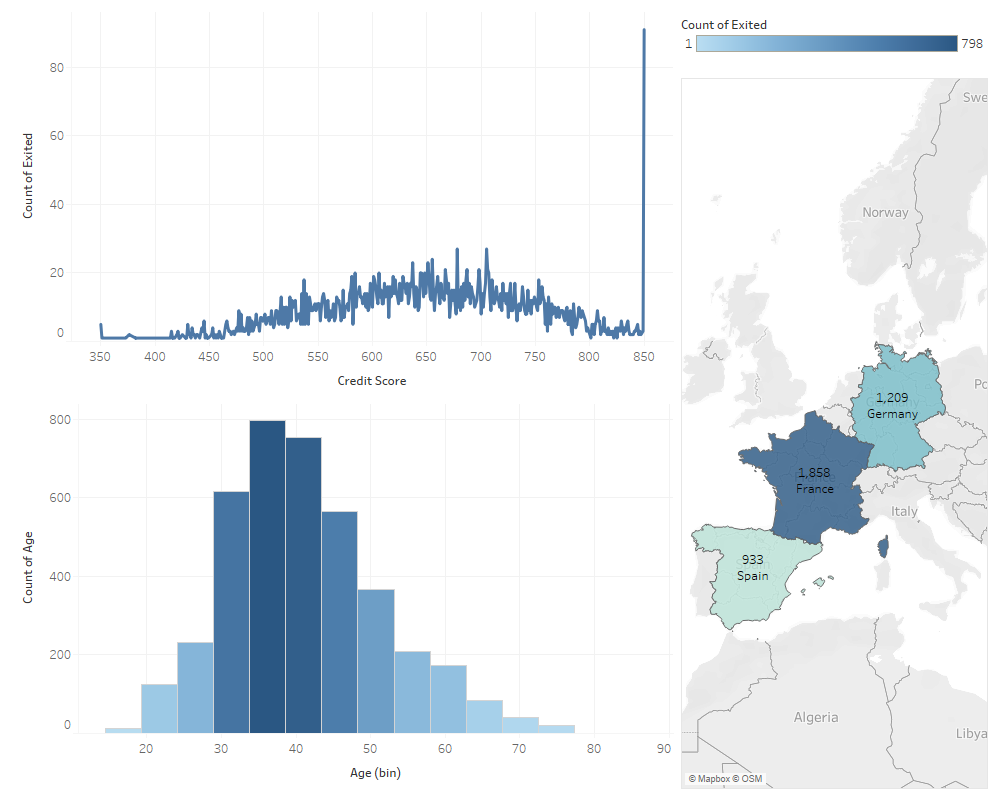

The dashboard page shown, as its layout file describes it:
{"tool":"tableau","page":{"name":"Dashboard 1","canvas":[1000,800],"ordinal":0},"visuals":[{"type":"worksheet","title":"Sheet 3","mark":"Automatic","rows":["Exited"],"cols":["CreditScore"],"box":[8,8,669,392]},{"type":"legend","title":"Sheet 2","param":"[federated.16ugxtz0ocsmtc17g0x3j0l40jgm].[cnt:Exited:qk]","box":[677,8,315,65]},{"type":"worksheet","title":"Sheet 4","mark":"Multipolygon","box":[677,73,315,719]},{"type":"worksheet","title":"Sheet 2","mark":"Automatic","rows":["Age"],"cols":["Age (bin)"],"box":[8,400,669,392]}]}

Visuals, with their boxes in screenshot pixels (x1, y1, x2, y2), scaled from the page's 1000x800 canvas onto the 1000x800 screenshot:
"Sheet 3" worksheet: 8:8:677:400
"Sheet 2" legend: 677:8:992:73
"Sheet 4" worksheet (Multipolygon marks): 677:73:992:792
"Sheet 2" worksheet: 8:400:677:792
